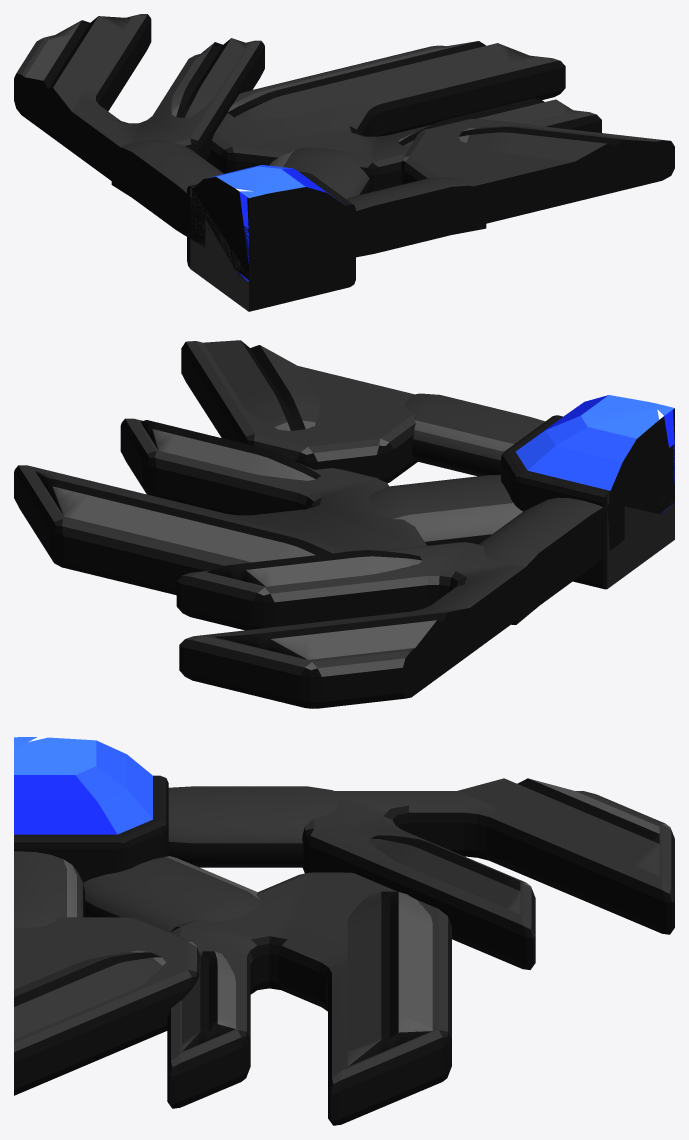
File: dark_saw_231.glb
3 renders of one model, top to bottom at view 1: azimuth 30°, elevation 25°; view 2: azimuth 150°, elevation 25°; view 3: azimuth 270°, elevation 25°, orthographic. The views are drawn at different scales.
Visible parts, largest first — view 1: dark_saw_231_under0_plate, dark_saw_231_arm1_plate, dark_saw_231_arm0_plate, dark_saw_231_gem_bezel, dark_saw_231_gem, dark_saw_231_under0_ridge0, dark_saw_231_arm1_rod, dark_saw_231_arm0_rod, dark_saw_231_arm0_ridge0, dark_saw_231_arm1_ridge0, dark_saw_231_arm0_ridge1, dark_saw_231_under0_rod (+1 smaller); view 2: dark_saw_231_arm0_plate, dark_saw_231_under0_plate, dark_saw_231_arm1_plate, dark_saw_231_gem, dark_saw_231_under0_ridge0, dark_saw_231_arm0_rod, dark_saw_231_gem_bezel, dark_saw_231_arm1_rod, dark_saw_231_under0_rod, dark_saw_231_arm0_ridge0, dark_saw_231_arm1_ridge0, dark_saw_231_arm0_ridge1 (+1 smaller); view 3: dark_saw_231_under0_plate, dark_saw_231_arm0_plate, dark_saw_231_arm1_plate, dark_saw_231_under0_ridge0, dark_saw_231_gem, dark_saw_231_arm0_rod, dark_saw_231_under0_rod, dark_saw_231_arm0_ridge0, dark_saw_231_arm1_ridge0, dark_saw_231_gem_bezel, dark_saw_231_arm1_rod, dark_saw_231_arm0_ridge1 (+1 smaller).
Boxes of the visible parts, <box> form: dark_saw_231_under0_plate: <box>207,45,601,192</box>; dark_saw_231_arm1_plate: <box>401,119,674,230</box>; dark_saw_231_arm0_plate: <box>14,14,264,193</box>; dark_saw_231_gem_bezel: <box>187,171,355,311</box>; dark_saw_231_gem: <box>192,164,347,281</box>; dark_saw_231_under0_ridge0: <box>227,41,534,119</box>; dark_saw_231_arm1_rod: <box>324,177,486,262</box>; dark_saw_231_arm0_rod: <box>111,139,223,247</box>; dark_saw_231_arm0_ridge0: <box>20,16,130,121</box>; dark_saw_231_arm1_ridge0: <box>459,126,664,170</box>; dark_saw_231_arm0_ridge1: <box>171,38,248,117</box>; dark_saw_231_under0_rod: <box>269,147,371,198</box>; dark_saw_231_arm0_plate: <box>176,542,540,708</box>; dark_saw_231_under0_plate: <box>14,418,426,595</box>; dark_saw_231_arm1_plate: <box>181,341,417,483</box>; dark_saw_231_gem: <box>515,395,674,514</box>; dark_saw_231_under0_ridge0: <box>35,471,341,562</box>; dark_saw_231_arm0_rod: <box>478,495,624,624</box>; dark_saw_231_gem_bezel: <box>501,415,674,589</box>; dark_saw_231_arm1_rod: <box>405,393,544,476</box>; dark_saw_231_under0_rod: <box>369,474,522,545</box>; dark_saw_231_arm0_ridge0: <box>215,607,474,659</box>; dark_saw_231_arm1_ridge0: <box>203,340,320,430</box>; dark_saw_231_arm0_ridge1: <box>206,550,422,586</box>; dark_saw_231_under0_plate: <box>167,872,451,1125</box>; dark_saw_231_arm0_plate: <box>302,791,674,969</box>; dark_saw_231_arm1_plate: <box>14,917,200,1095</box>; dark_saw_231_under0_ridge0: <box>347,891,432,1066</box>; dark_saw_231_gem: <box>14,737,152,834</box>; dark_saw_231_arm0_rod: <box>168,786,338,867</box>; dark_saw_231_under0_rod: <box>83,856,260,932</box>; dark_saw_231_arm0_ridge0: <box>457,778,659,876</box>; dark_saw_231_arm1_ridge0: <box>14,950,165,1039</box>; dark_saw_231_gem_bezel: <box>14,775,168,882</box>; dark_saw_231_arm1_rod: <box>14,851,84,928</box>; dark_saw_231_arm0_ridge1: <box>369,835,520,914</box>.
Size of the model in its own units: 22.97 by 5.66 by 23.7.
